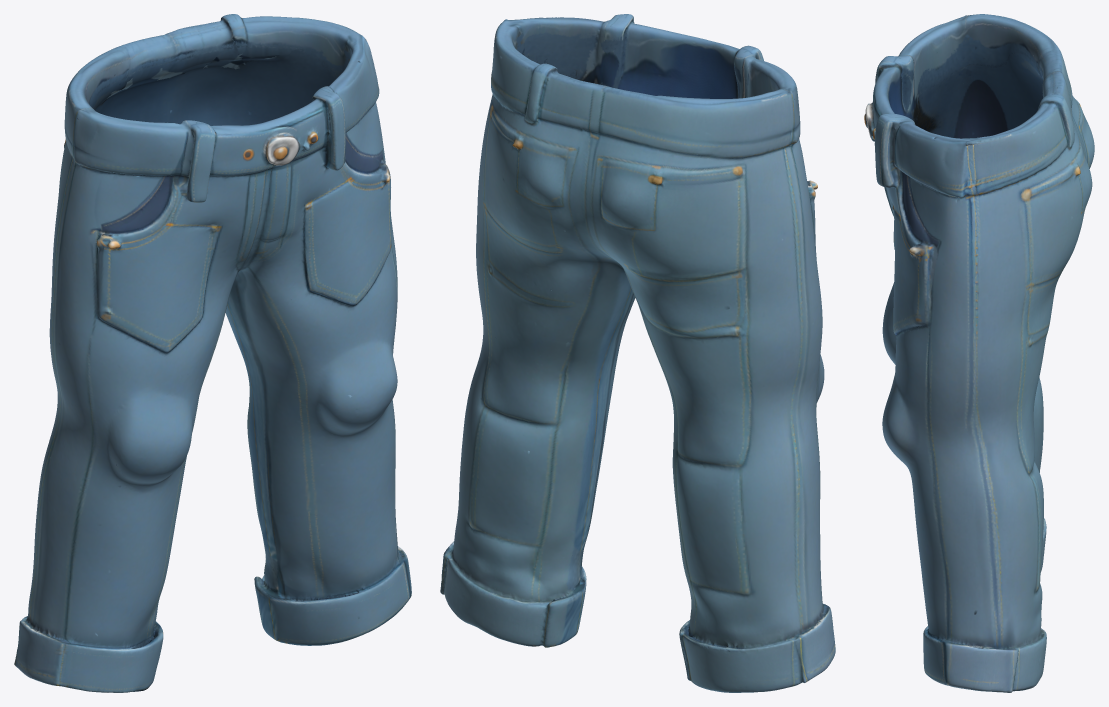
The model's file is pants.glb.
The picture shows the model from 3 angles, left to right: view 1: azimuth 30°, elevation 25°; view 2: azimuth 150°, elevation 25°; view 3: azimuth 270°, elevation 25°; orthographic projection. The views are drawn at different scales.
Size of the model in its own units: 42747 by 65521 by 24365.
1 material, 1 textured.
